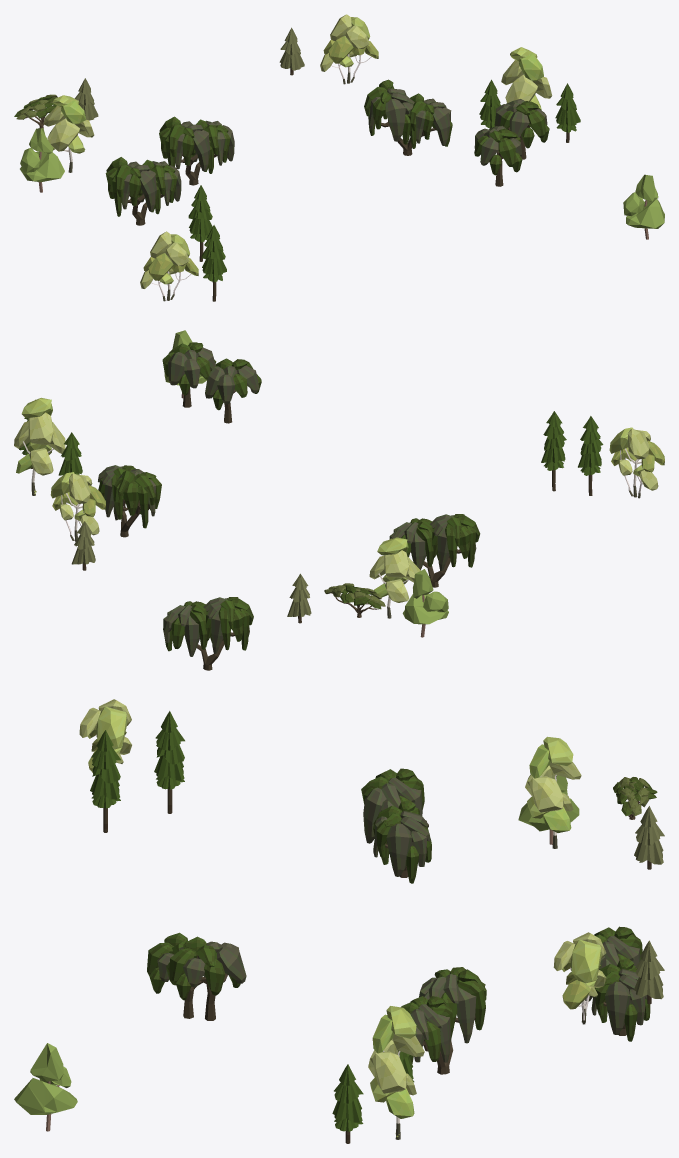
File: trees.gltf
The picture shows the model from 3 angles, top to bottom: view 1: azimuth 30°, elevation 25°; view 2: azimuth 150°, elevation 25°; view 3: azimuth 270°, elevation 25°; orthographic projection. The views are drawn at different scales.
Parts seen in each view (by area): view 1: Tree Type6 04 (1), Tree Type6 04, Tree Type6 04 (2), Tree Type5 04, Tree Type5 04 (2), Tree Type5 03 (1), Tree Type5 03, Tree Type6 02 (1), Tree Type6 02, Tree Type4 01, Tree Type4 01 (1), Tree Type2 05 (1) (+6 smaller); view 2: Tree Type6 04 (2), Tree Type6 04, Tree Type6 04 (1), Tree Type5 03, Tree Type5 04, Tree Type5 04 (2), Tree Type5 03 (1), Tree Type6 02 (1), Tree Type6 02, Tree Type4 01 (1), Tree Type2 05 (1), Tree Type2 05 (+4 smaller); view 3: Tree Type6 04, Tree Type6 04 (1), Tree Type6 04 (2), Tree Type5 03, Tree Type6 02, Tree Type5 03 (1), Tree Type5 04 (2), Tree Type4 01, Tree Type5 04, Tree Type2 05, Tree Type2 05 (1), Tree Type6 02 (1) (+5 smaller).
Part boxes in pixels (bbox=[...]): Tree Type6 04 (1): bbox=[364, 79, 452, 155]; Tree Type6 04: bbox=[105, 157, 181, 225]; Tree Type6 04 (2): bbox=[159, 116, 234, 185]; Tree Type5 04: bbox=[140, 231, 198, 301]; Tree Type5 04 (2): bbox=[320, 14, 378, 84]; Tree Type5 03 (1): bbox=[43, 95, 94, 172]; Tree Type5 03: bbox=[501, 47, 552, 127]; Tree Type6 02 (1): bbox=[474, 125, 522, 186]; Tree Type6 02: bbox=[494, 99, 549, 159]; Tree Type4 01: bbox=[623, 174, 664, 239]; Tree Type4 01 (1): bbox=[20, 128, 64, 192]; Tree Type2 05 (1): bbox=[201, 225, 226, 301]; Tree Type6 04 (2): bbox=[163, 597, 253, 670]; Tree Type6 04: bbox=[389, 514, 480, 587]; Tree Type6 04 (1): bbox=[98, 465, 161, 537]; Tree Type5 03: bbox=[14, 397, 65, 495]; Tree Type5 04: bbox=[609, 427, 664, 498]; Tree Type5 04 (2): bbox=[50, 472, 105, 541]; Tree Type5 03 (1): bbox=[369, 537, 420, 618]; Tree Type6 02 (1): bbox=[205, 358, 261, 423]; Tree Type6 02: bbox=[162, 342, 216, 407]; Tree Type4 01 (1): bbox=[402, 569, 448, 637]; Tree Type2 05 (1): bbox=[578, 416, 603, 495]; Tree Type2 05: bbox=[541, 411, 566, 491]; Tree Type6 04: bbox=[361, 768, 431, 883]; Tree Type6 04 (1): bbox=[401, 967, 486, 1074]; Tree Type6 04 (2): bbox=[585, 926, 650, 1041]; Tree Type5 03: bbox=[368, 1006, 424, 1139]; Tree Type6 02: bbox=[166, 936, 246, 1020]; Tree Type5 03 (1): bbox=[525, 736, 581, 848]; Tree Type5 04 (2): bbox=[553, 932, 606, 1024]; Tree Type4 01: bbox=[14, 1043, 77, 1131]; Tree Type5 04: bbox=[79, 699, 131, 772]; Tree Type2 05: bbox=[154, 711, 184, 813]; Tree Type2 05 (1): bbox=[90, 730, 120, 832]; Tree Type6 02 (1): bbox=[147, 932, 207, 1018].
Size of the model in its own units: 0.7959 by 0.2365 by 0.6424.
Materials: 1 (1 with a texture image).
